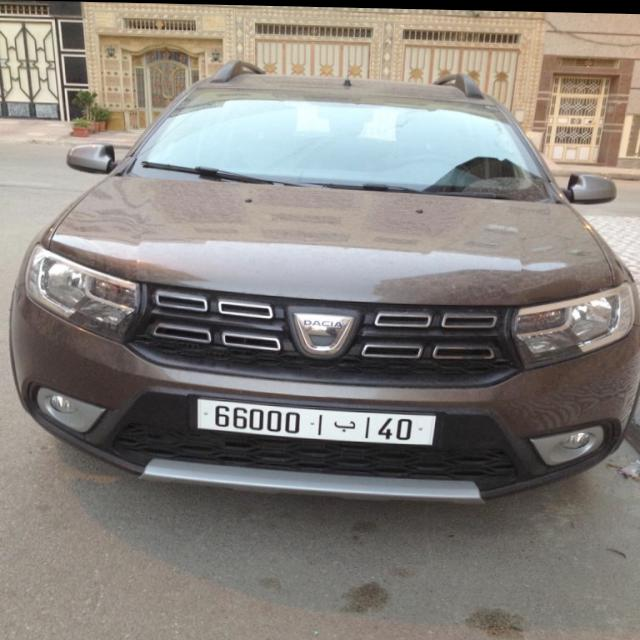License-Plate: (197, 397, 437, 443)
